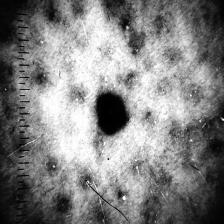Benign Marking or Mole: (97, 94, 129, 134)
